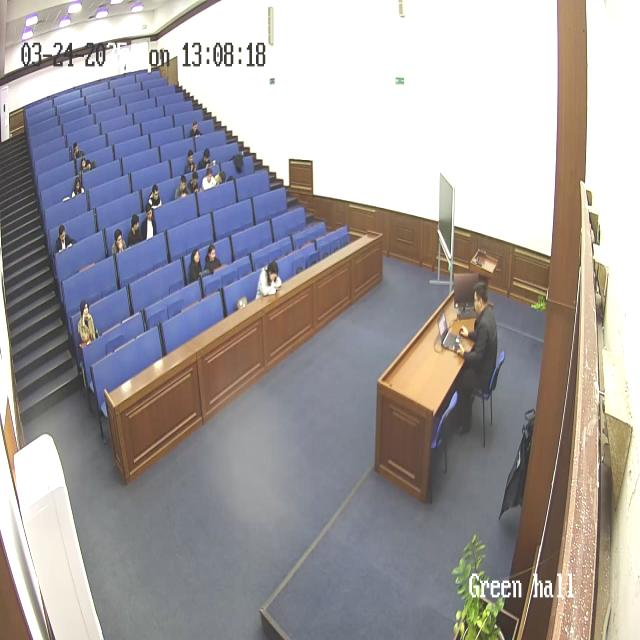person: (453, 280, 498, 436), (256, 258, 282, 298), (77, 300, 98, 348), (140, 203, 158, 241), (126, 213, 144, 248), (204, 242, 222, 276), (189, 247, 205, 285), (54, 224, 74, 254), (110, 227, 128, 257), (201, 164, 218, 191), (146, 184, 162, 211), (71, 175, 85, 200), (176, 174, 190, 198), (198, 148, 212, 170), (78, 156, 94, 175), (184, 150, 196, 174), (70, 140, 82, 162), (190, 120, 202, 139)
